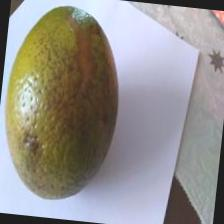Orange Rotten: (0, 0, 145, 221)
